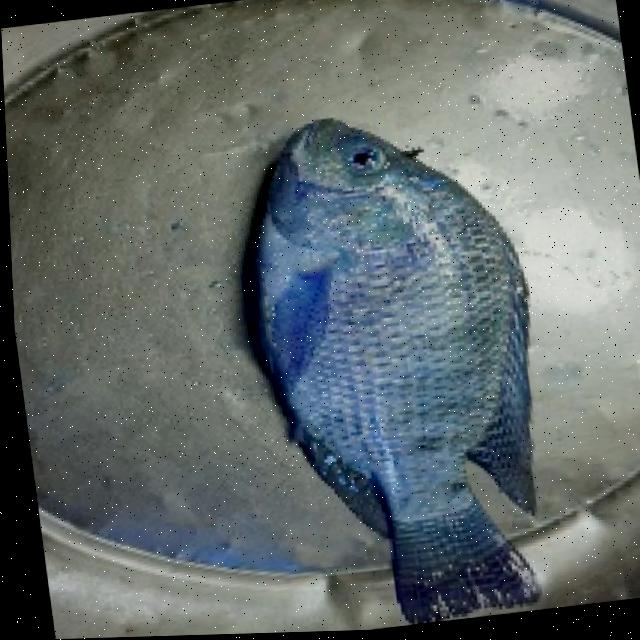Fresh: (234, 76, 574, 635)
